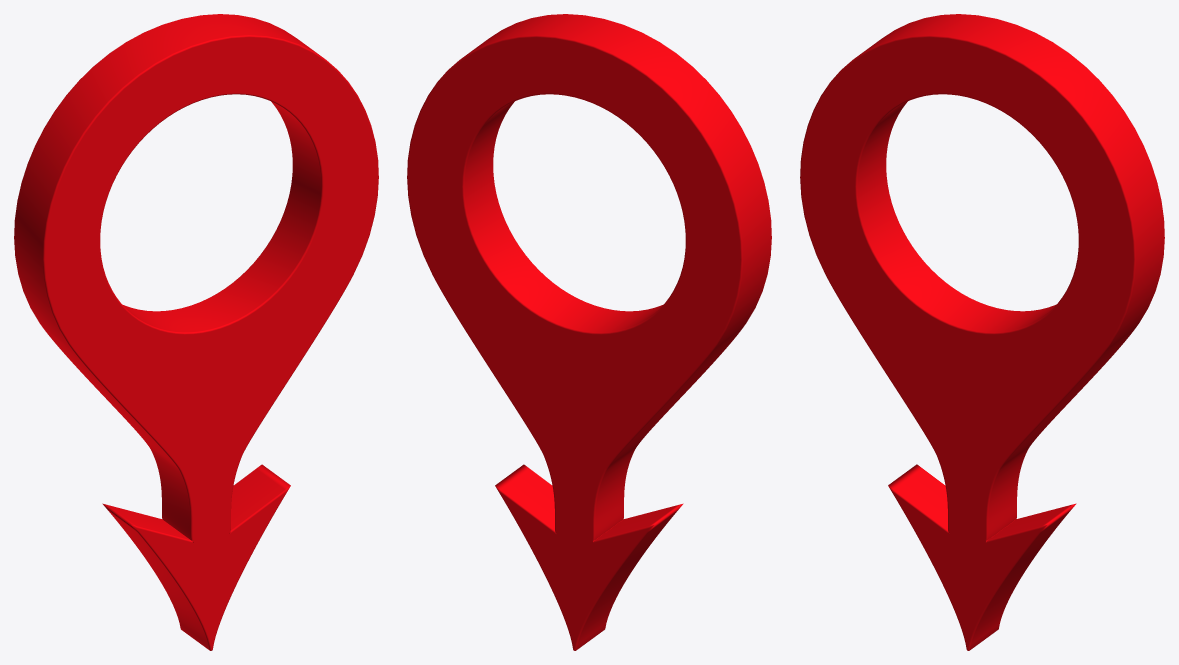
File: arrow_location.glb
The picture shows the model from 3 angles, left to right: view 1: azimuth 30°, elevation 25°; view 2: azimuth 150°, elevation 25°; view 3: azimuth 330°, elevation 25°; orthographic projection.
Parts seen in each view (by area): view 1: Object_2; view 2: Object_2; view 3: Object_2.
Part boxes in pixels (left/top/right/bottom): Object_2: left=14, top=14, right=378, bottom=650; Object_2: left=407, top=14, right=771, bottom=650; Object_2: left=800, top=14, right=1164, bottom=650.
Bounding box in the file's own units: 3.24 × 5.64 × 0.5054.
